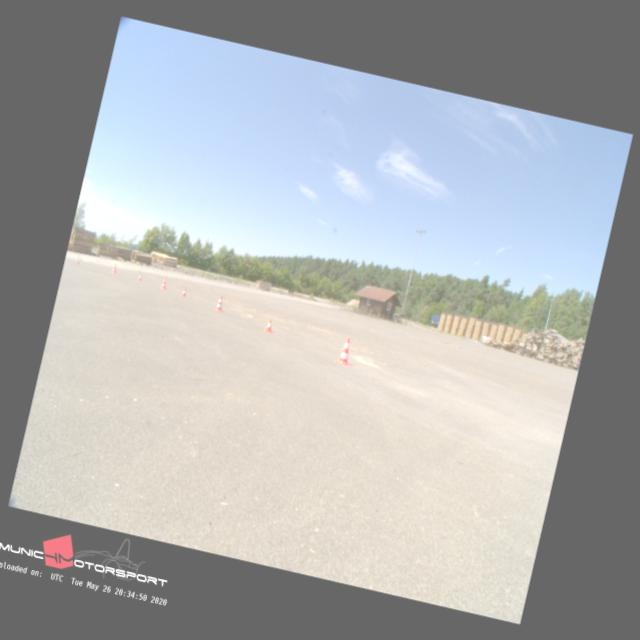large_orange_cone: (336, 336, 354, 366), (214, 294, 226, 310), (160, 276, 168, 289), (111, 263, 118, 273)
orange_cone: (263, 318, 274, 332), (180, 288, 188, 296), (138, 273, 142, 281), (75, 258, 80, 264)
